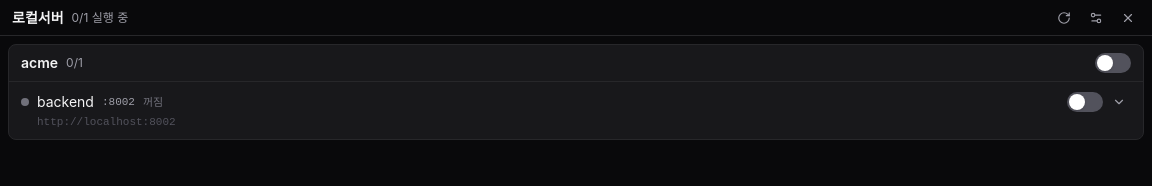
Test: App › 설정 창 열기가 실패하면 본문 위 alert 에 Rust 오류 문자열을 그대로 보여준다
This screenshot has width=1152, height=186.
Expected: the heading "acme" is shown, x1=21 y1=53 x2=58 y2=73
Click the button named "설정 열기".
click(1096, 18)  # box x1=1084 y1=6 x2=1108 y2=30
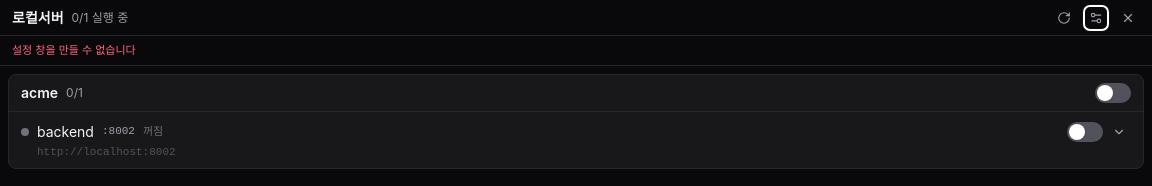
Expected: the heading "acme" is shown, x1=21 y1=82 x2=58 y2=102
Expected: the message reads "설정 창을 만들 수 없습니다", x1=12 y1=43 x2=136 y2=57
